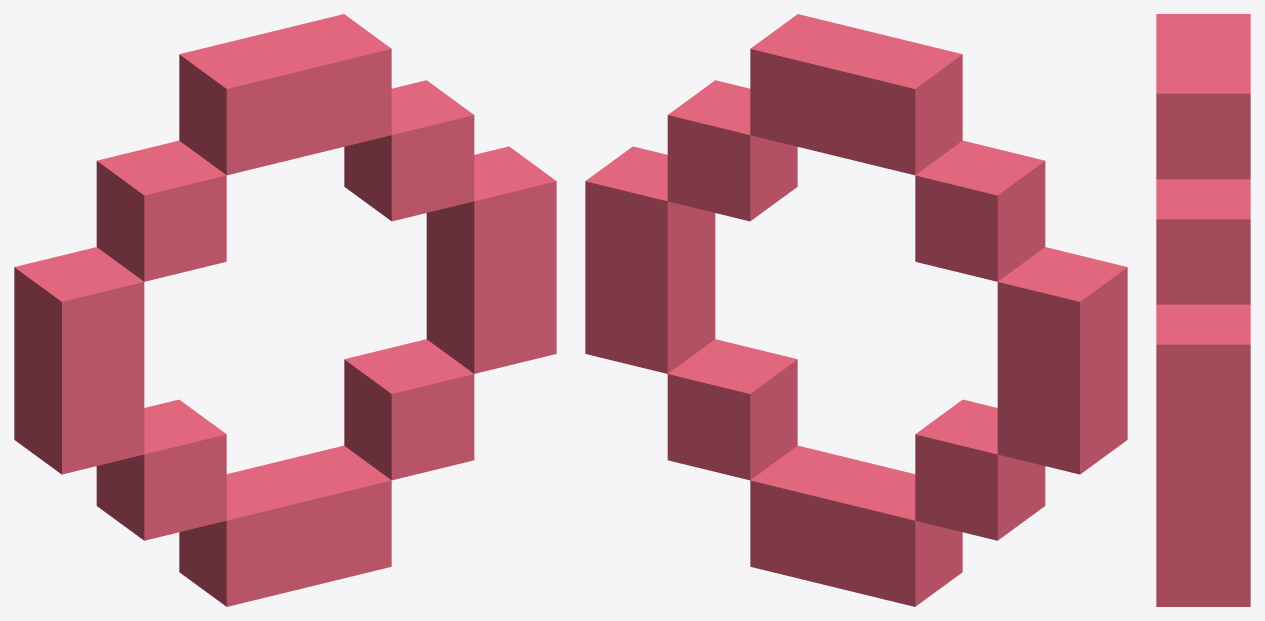
File: luzsalmao.obj
3 renders of one model, left to right at view 1: azimuth 30°, elevation 25°; view 2: azimuth 150°, elevation 25°; view 3: azimuth 270°, elevation 25°, orthographic.
Size of the model in its own units: 0.6 by 0.6 by 0.1.
1 material, 1 textured.
